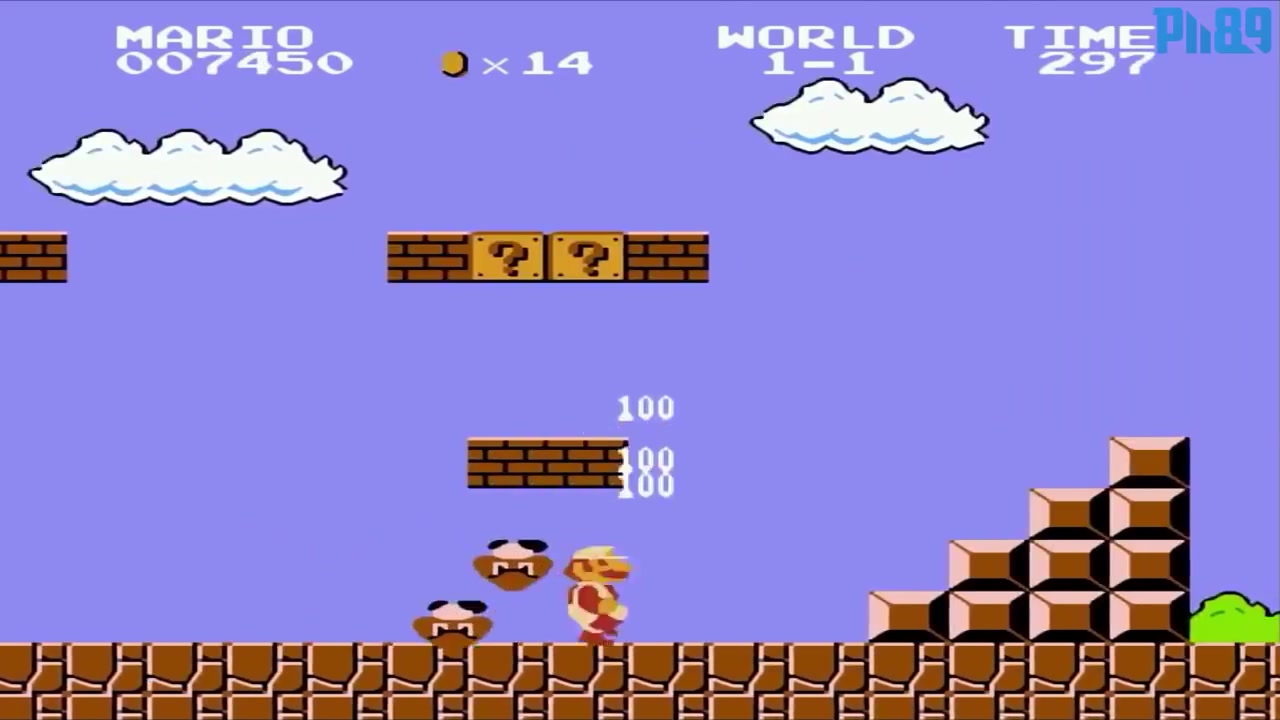mario: (554, 537, 650, 645)
